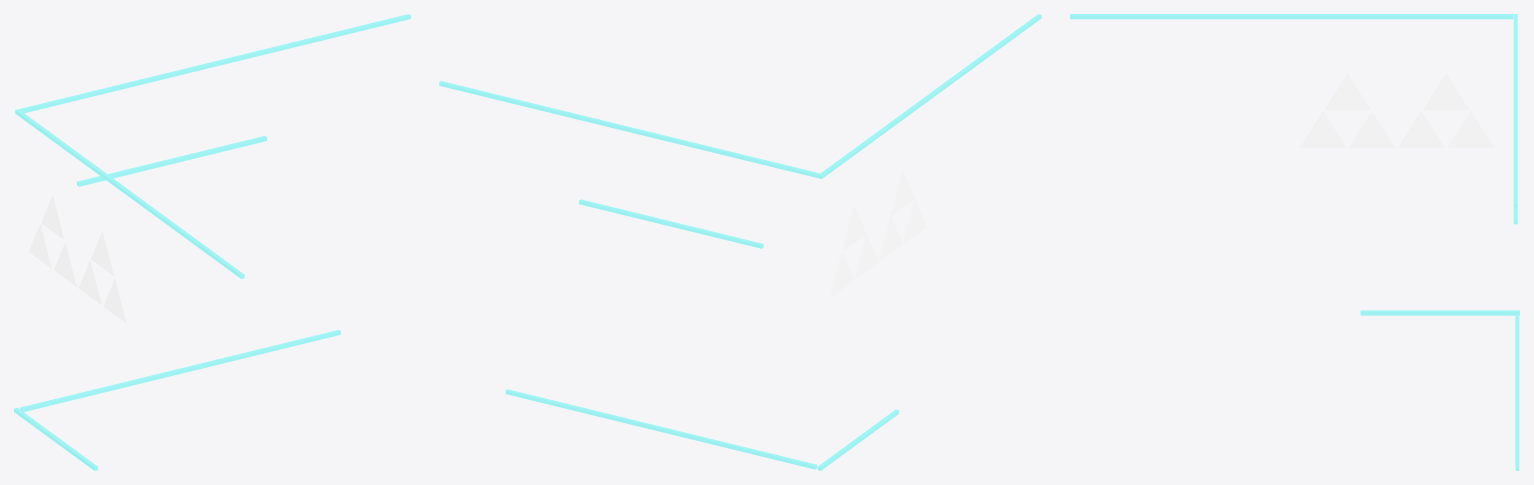
Rendered from light.glb.
3 views of the same model, side by side, from view 1: azimuth 30°, elevation 25°; view 2: azimuth 150°, elevation 25°; view 3: azimuth 270°, elevation 25° (orthographic). The views are drawn at different scales.
Parts seen in each view (by area): view 1: lights; view 2: lights; view 3: lights.
Boxes of the visible parts, x1=… form: lights: x1=14, y1=14, x2=410, y2=470; lights: x1=439, y1=14, x2=1041, y2=470; lights: x1=1070, y1=14, x2=1519, y2=470.
Bounding box in the file's own units: 1.9 × 1.4 × 1.9.
